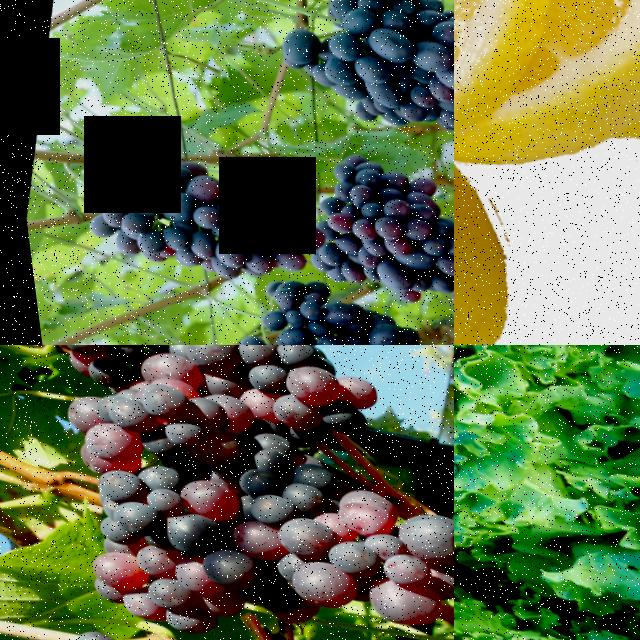grapes: (47, 414, 454, 640), (10, 345, 398, 500), (60, 127, 330, 304), (264, 0, 454, 174), (288, 148, 454, 345), (209, 265, 454, 345), (55, 0, 370, 26)
lemon: (465, 0, 640, 206), (454, 100, 548, 345), (454, 0, 557, 207)
lettuce: (454, 345, 640, 640), (454, 506, 640, 640)
